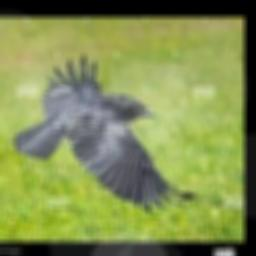Crow: (14, 55, 197, 213)
